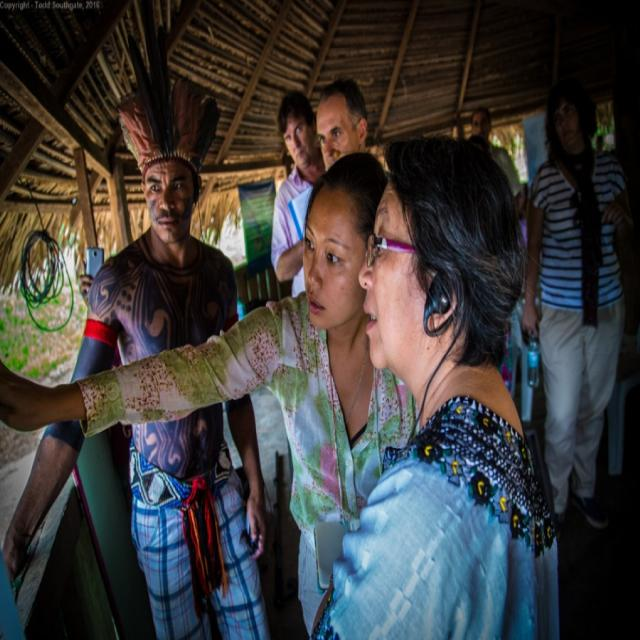body: (2, 149, 417, 636), (1, 70, 272, 640), (300, 126, 565, 639), (518, 65, 636, 539), (271, 87, 330, 300), (311, 74, 372, 170), (469, 101, 524, 192), (73, 240, 108, 305)
